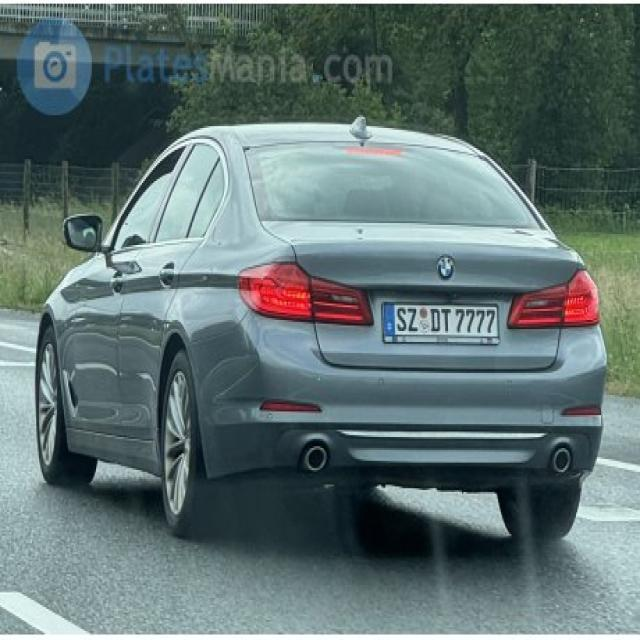license: (382, 292, 507, 360)
